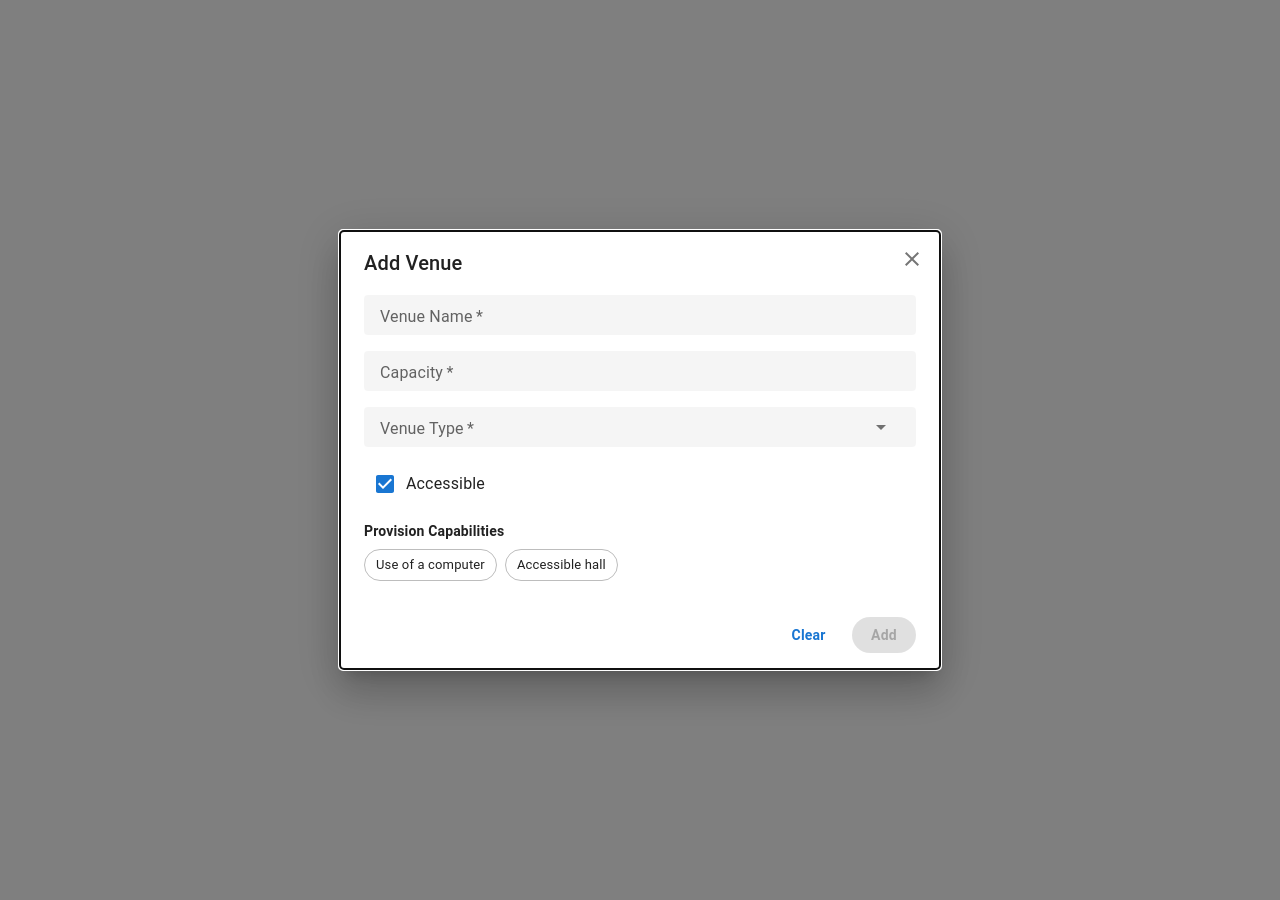
Components - AddVenueDialog › clears fields when Clear is clicked
This screenshot has width=1280, height=900.
Step 1. Type "Room A" into the field labelled "Venue Name *" → x=640, y=315, box [380, 304, 900, 327]
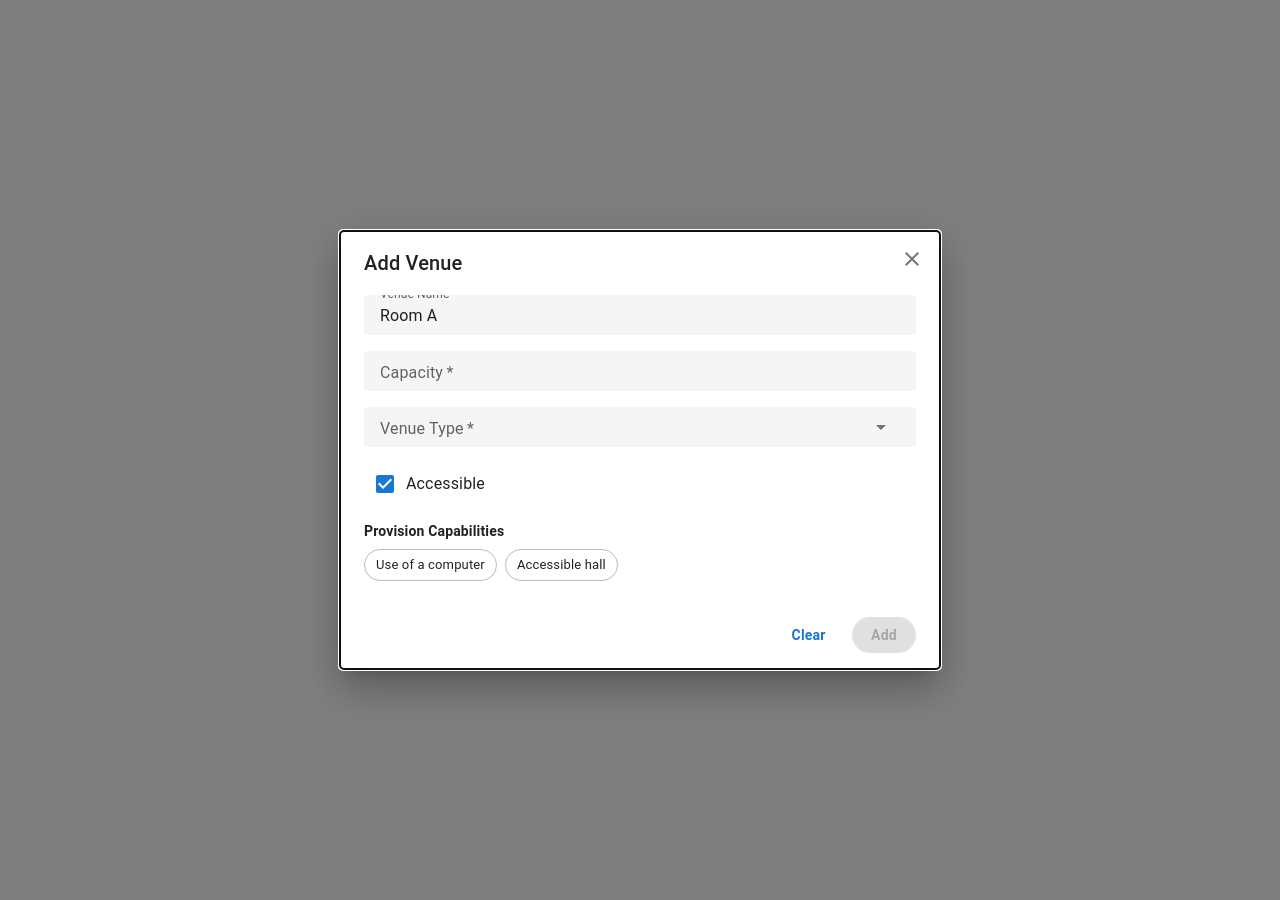
Step 2. Type "120" into the number field labelled "Capacity *" → x=640, y=371, box [380, 360, 900, 383]
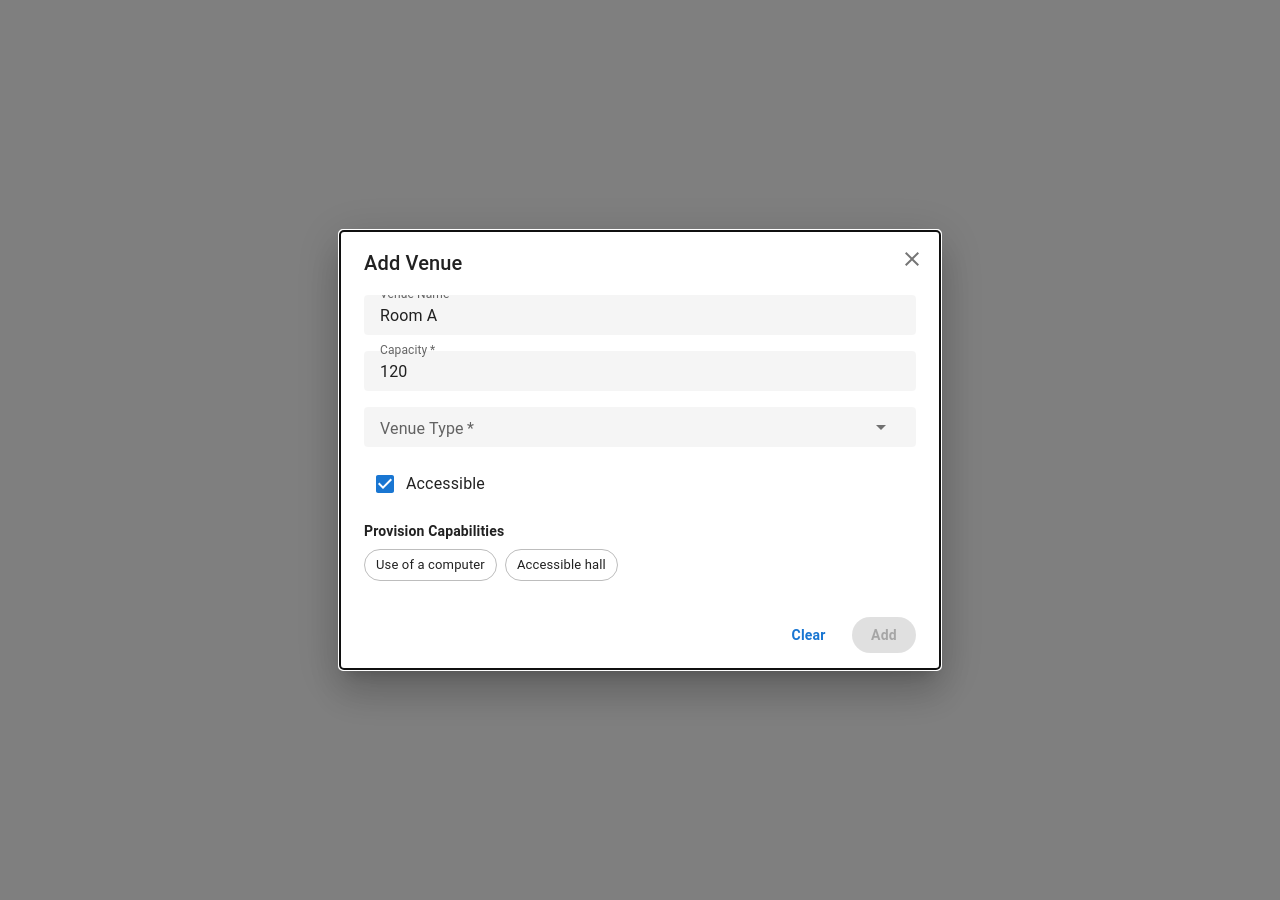
Step 3. Click the button "Clear" → x=809, y=635, box [773, 617, 844, 653]
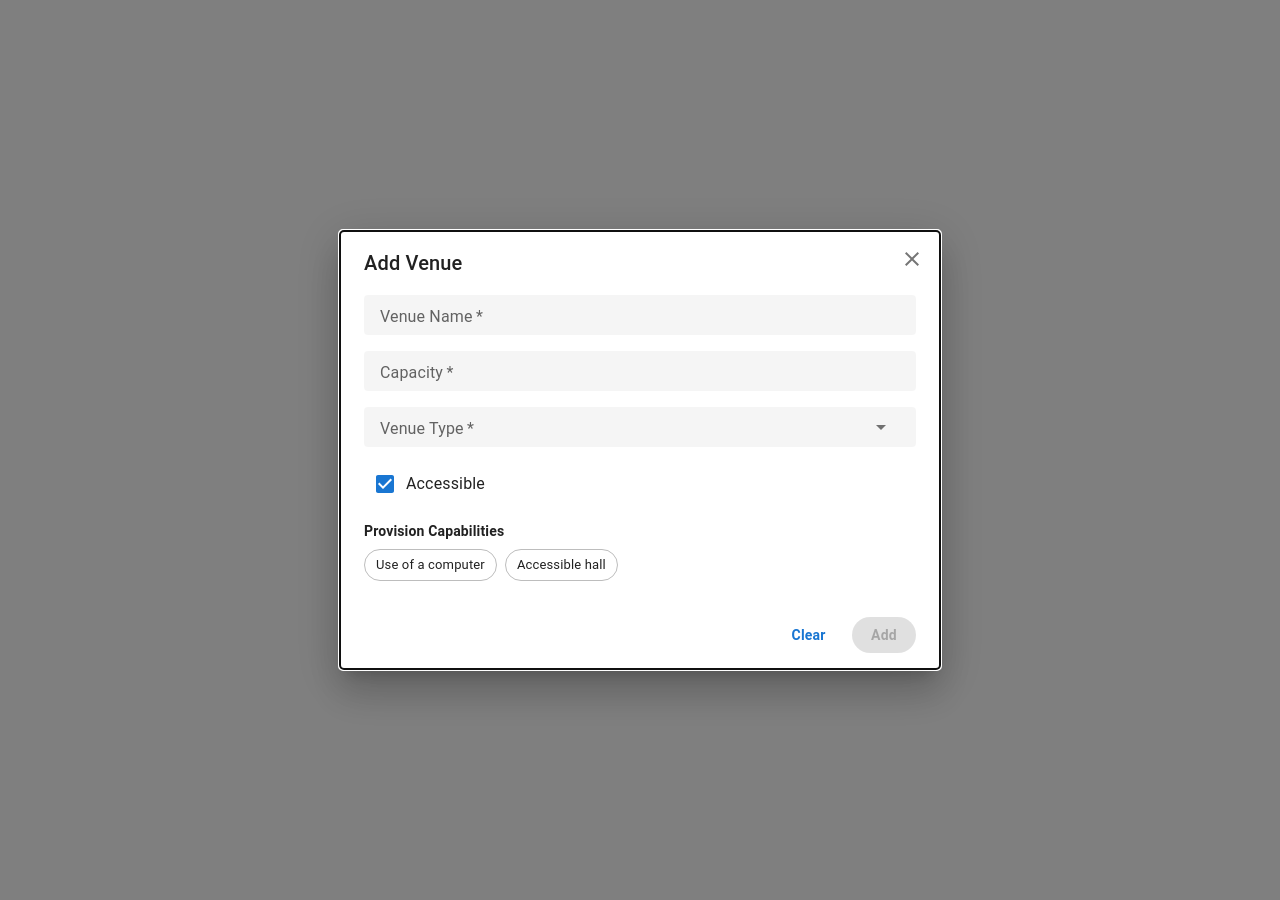
expect the field labelled "Venue Name *" is empty: met, box [380, 304, 900, 327]
expect the number field labelled "Capacity *" is empty: met, box [380, 360, 900, 383]
